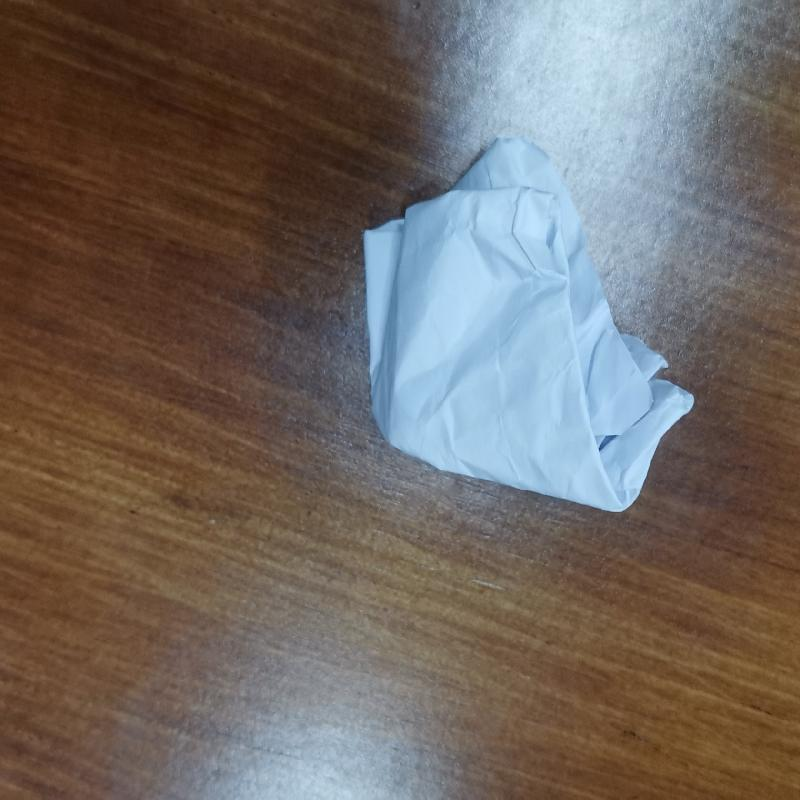spitball: (356, 132, 700, 515)
